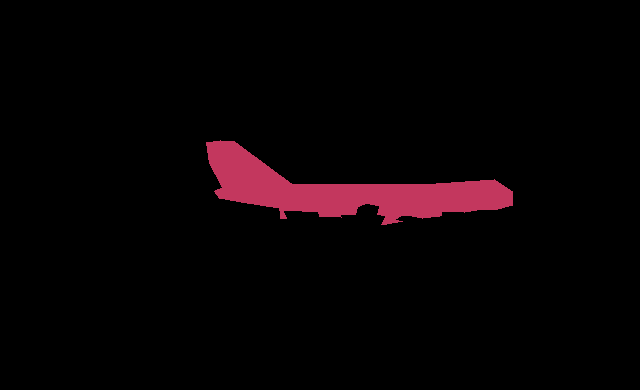Airplane: (206, 140, 512, 224)
